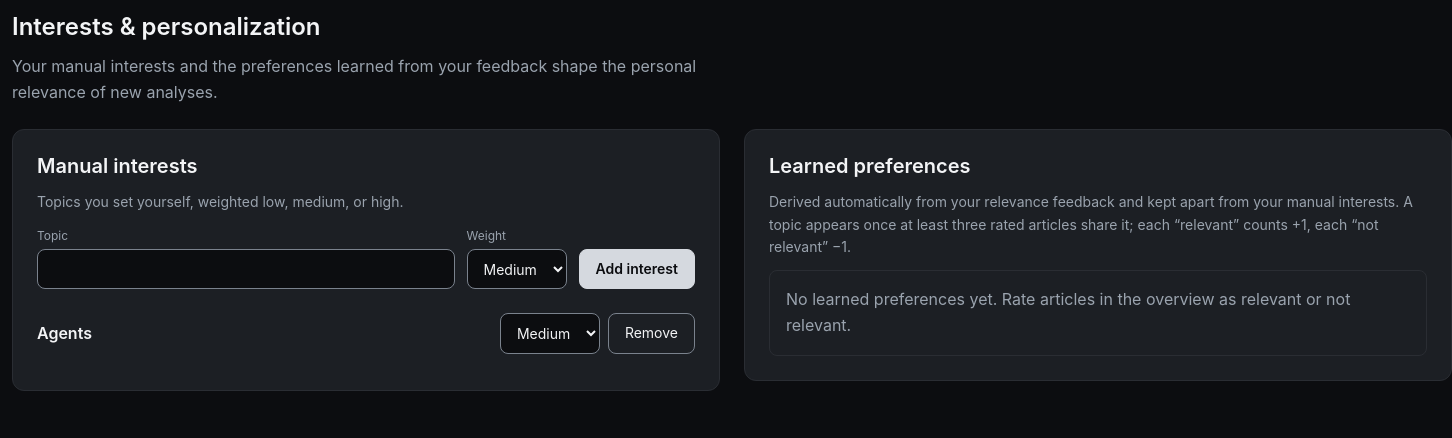
manual interests › keeps an interest when removing fails
Expected: the text "Agents" is shown, [37,322,92,342]
Click the button named "Remove “Agents”" at (651, 333), box [608,313,695,354]
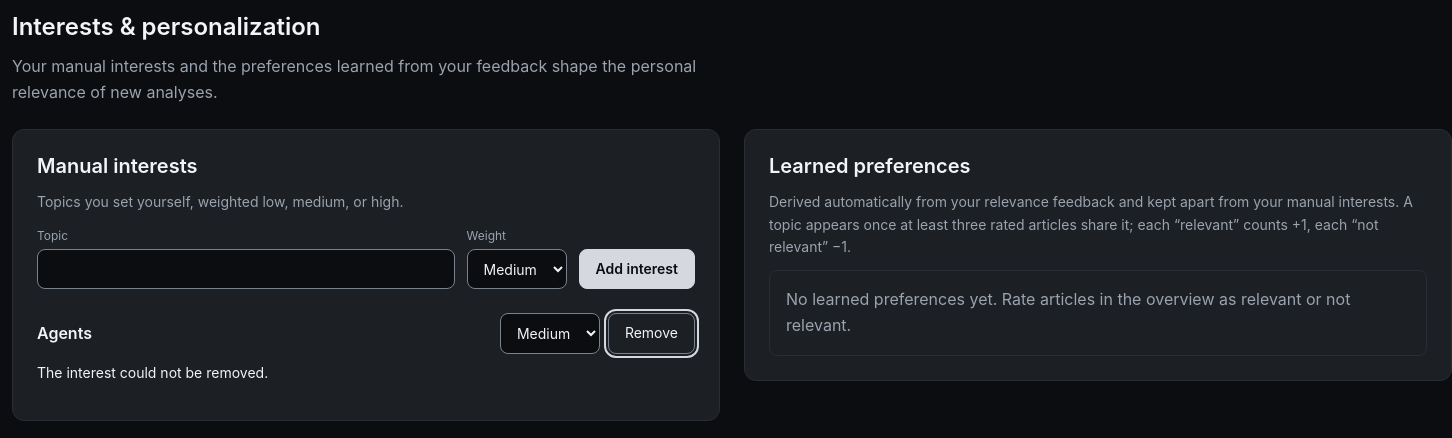
Expected: the text "Agents" is shown, [37,322,92,342]
Expected: the message reads "The interest could not be removed.", [37,364,268,380]
